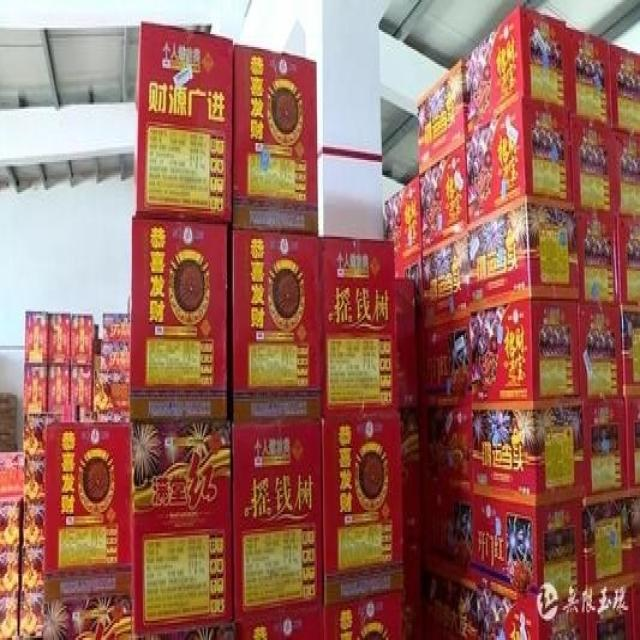box: (130, 420, 236, 637), (130, 216, 233, 422), (136, 23, 234, 224), (232, 417, 324, 623), (232, 229, 323, 418), (44, 416, 135, 603), (233, 44, 318, 235), (324, 408, 402, 609), (319, 237, 400, 415), (466, 95, 571, 226), (468, 6, 569, 136), (467, 199, 576, 315), (473, 489, 585, 599), (469, 300, 581, 408), (473, 402, 583, 504), (473, 566, 589, 640), (416, 55, 472, 175), (584, 489, 639, 591), (419, 144, 468, 251), (420, 316, 472, 409), (582, 397, 628, 498), (567, 26, 613, 126), (577, 301, 623, 401), (423, 230, 469, 326), (422, 483, 473, 569), (570, 114, 614, 213), (574, 212, 621, 304), (422, 409, 473, 489), (423, 565, 477, 638), (43, 597, 133, 638), (384, 176, 422, 265), (586, 576, 639, 638), (326, 597, 403, 639), (237, 611, 325, 638), (612, 46, 639, 132), (396, 254, 425, 328), (616, 127, 639, 218), (618, 218, 639, 305), (620, 304, 638, 394), (134, 624, 238, 638), (626, 396, 639, 494)
